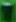black: (0, 0, 16, 22)
